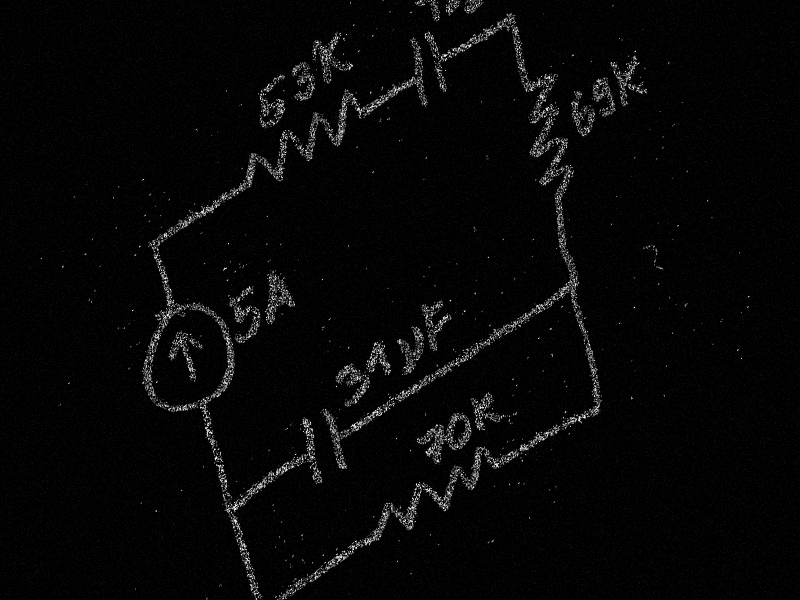0: (440, 406, 477, 455)
1: (359, 332, 397, 388)
3: (329, 353, 375, 414), (285, 56, 321, 107)
4: (405, 0, 449, 32)
5: (222, 280, 268, 347), (249, 72, 298, 133)
6: (563, 83, 603, 143)
7: (412, 418, 455, 476)
8: (434, 0, 473, 15)
9: (587, 71, 621, 124)
A: (253, 264, 298, 326)
F: (416, 290, 460, 355)
k: (306, 20, 357, 91), (605, 43, 652, 113), (466, 382, 505, 437)
u: (391, 321, 432, 376), (464, 0, 498, 10)
